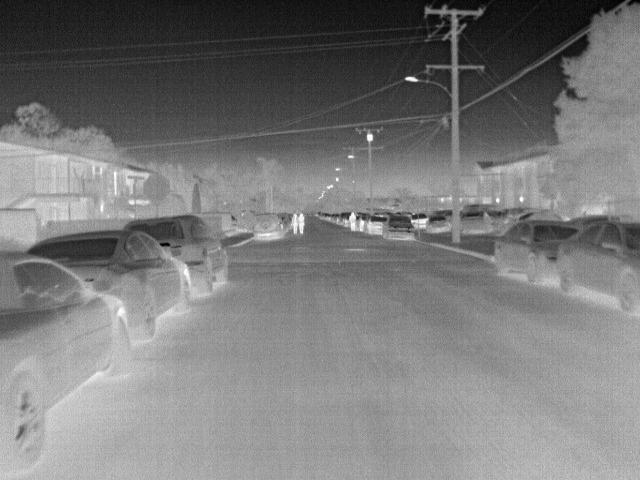car: (2, 248, 135, 476), (23, 231, 195, 343), (125, 214, 229, 295), (559, 219, 638, 313), (491, 221, 582, 287), (250, 211, 288, 240), (383, 214, 419, 242), (458, 209, 496, 235), (363, 214, 389, 234), (424, 214, 450, 233), (409, 212, 428, 230)
person: (295, 210, 309, 232), (345, 212, 357, 233)
